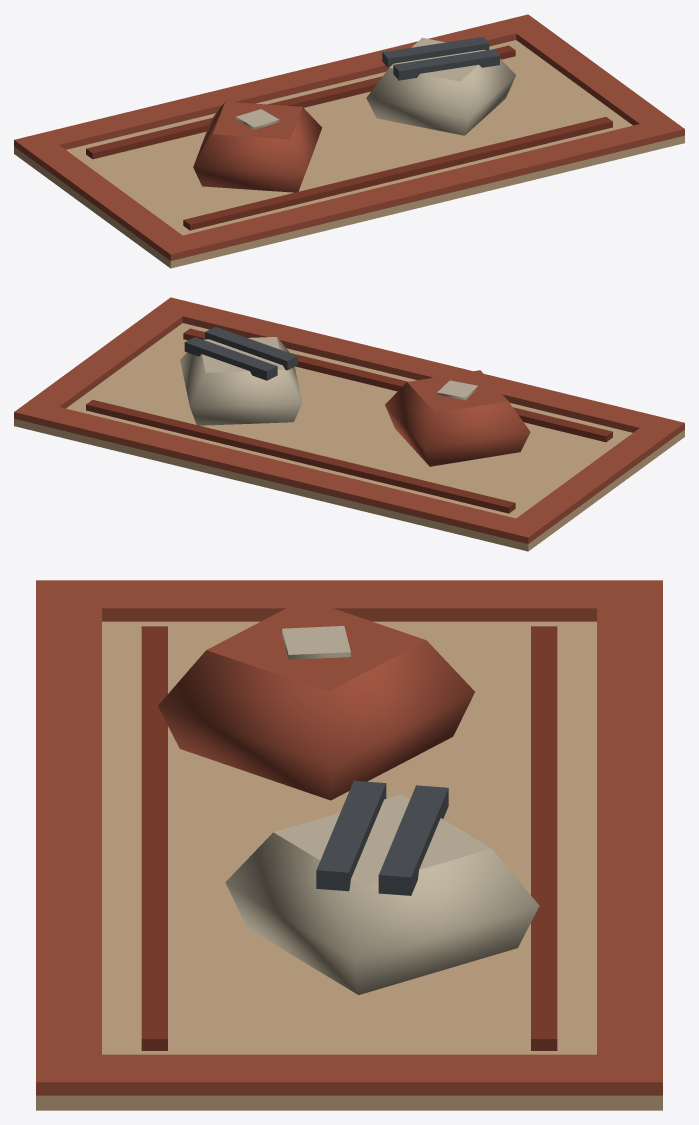
The model's file is seat_mat.glb.
3 renders of one model, top to bottom at view 1: azimuth 30°, elevation 25°; view 2: azimuth 150°, elevation 25°; view 3: azimuth 270°, elevation 25°, orthographic. The views are drawn at different scales.
Visible parts, largest first — view 1: seat_mat; view 2: seat_mat; view 3: seat_mat.
Boxes of the visible parts, left/top/right/bottom form: seat_mat: left=14, top=14, right=684, bottom=268; seat_mat: left=14, top=297, right=684, bottom=551; seat_mat: left=36, top=580, right=662, bottom=1110.
Size of the model in its own units: 1.8 by 0.2142 by 0.95.
